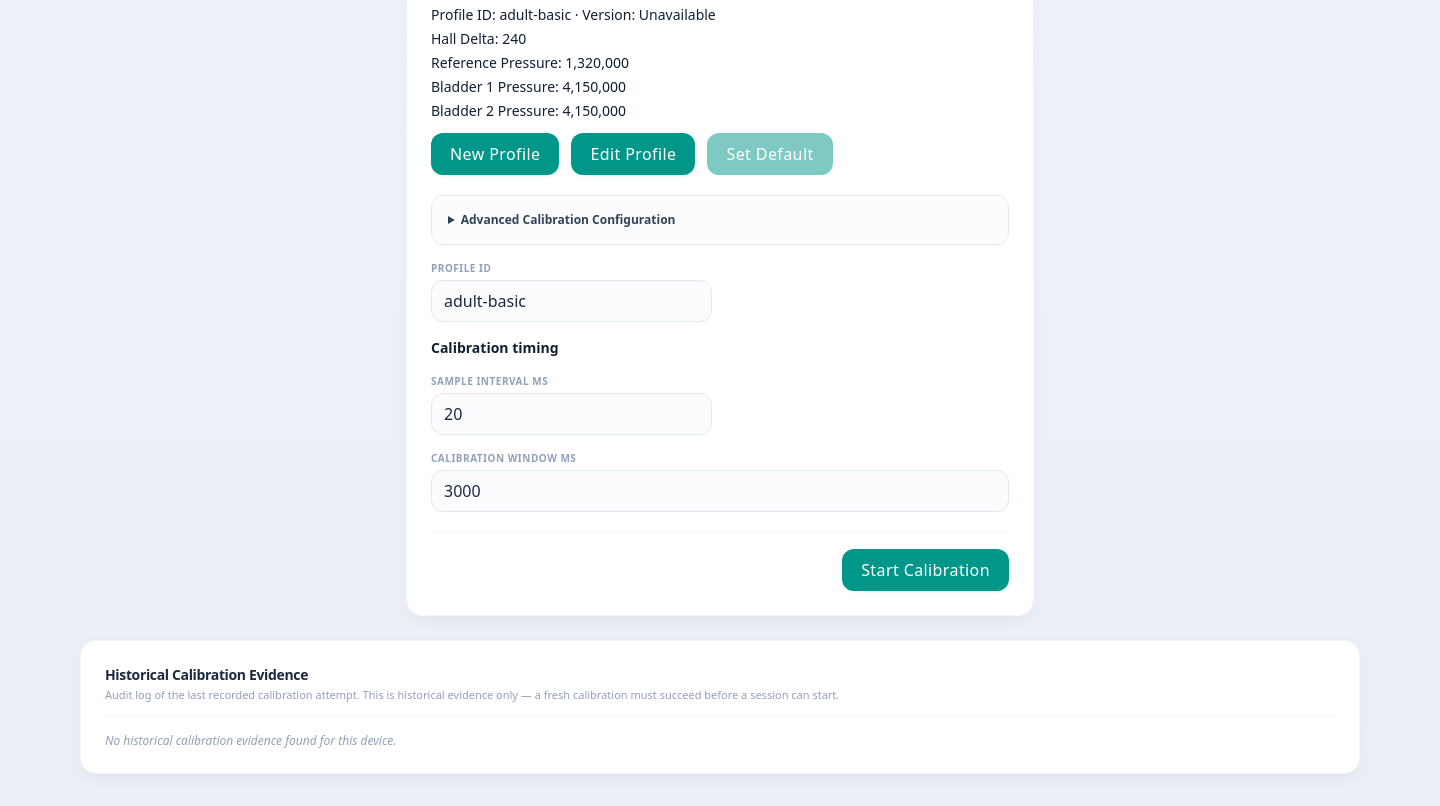
CalibrationWizardPage › keeps the start action disabled while its command is pending
(page scrolled)
Click the button "Start Calibration". click: point(926, 570)
box: [842,549,1009,591]
(page scrolled)
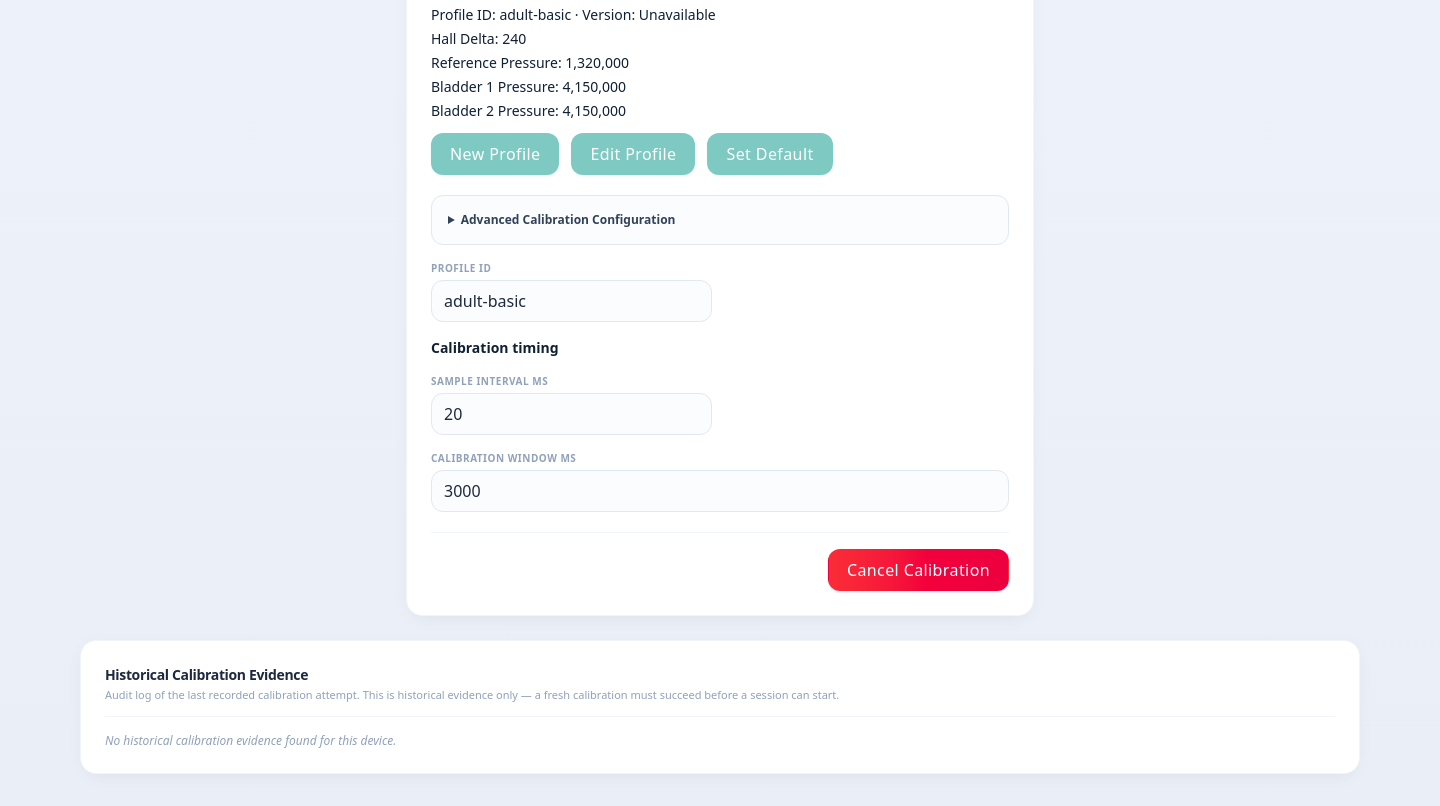
Expected: the button "Start Calibration" is gone
Expected: the button "Cancel Calibration" is shown, [828,549,1009,591]
